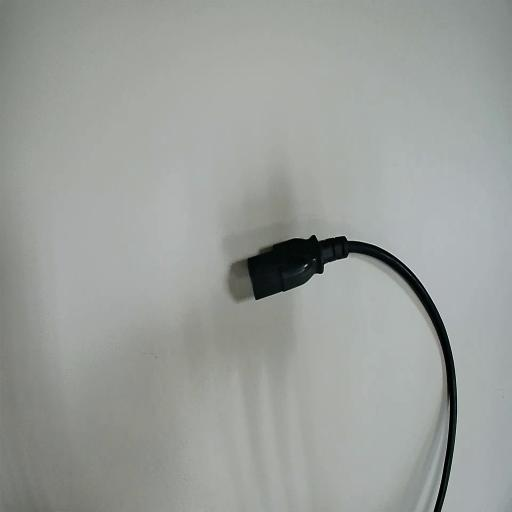wire: (245, 236, 455, 511)
